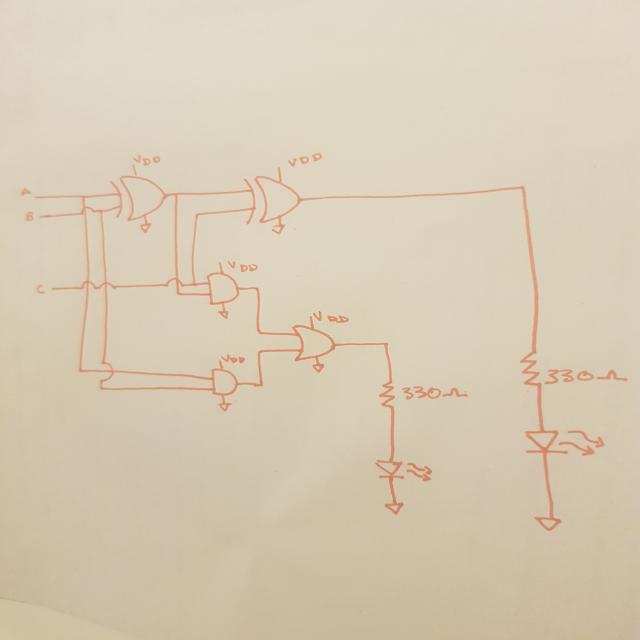crossover: (98, 362, 114, 382), (79, 280, 97, 292), (164, 278, 185, 288), (98, 282, 116, 292), (78, 206, 94, 215)
diode: (523, 425, 607, 461), (374, 459, 433, 483)
ground: (531, 514, 563, 532), (383, 501, 405, 515), (270, 223, 286, 236), (310, 362, 326, 374), (216, 310, 232, 320), (218, 402, 234, 412), (139, 223, 153, 234)
junction: (512, 182, 529, 196), (174, 290, 183, 297), (78, 194, 88, 200), (96, 208, 105, 214), (257, 382, 264, 388), (173, 192, 180, 198), (382, 342, 389, 347), (256, 330, 263, 335), (253, 287, 260, 292), (193, 212, 200, 217), (98, 386, 105, 391), (256, 350, 264, 354), (191, 282, 199, 286), (78, 368, 84, 372)
resistor: (517, 349, 544, 394), (378, 378, 397, 412)
source: (132, 164, 136, 167), (277, 166, 281, 169), (218, 261, 222, 264), (309, 315, 313, 318), (218, 359, 222, 362)
terminal: (34, 195, 39, 200), (50, 287, 56, 291), (38, 214, 43, 218)
text: (544, 368, 630, 384), (401, 385, 468, 400), (288, 152, 323, 168), (313, 310, 350, 322), (226, 261, 259, 272), (133, 154, 162, 166), (220, 353, 247, 364), (24, 211, 35, 222), (35, 284, 45, 294), (20, 188, 31, 197)
